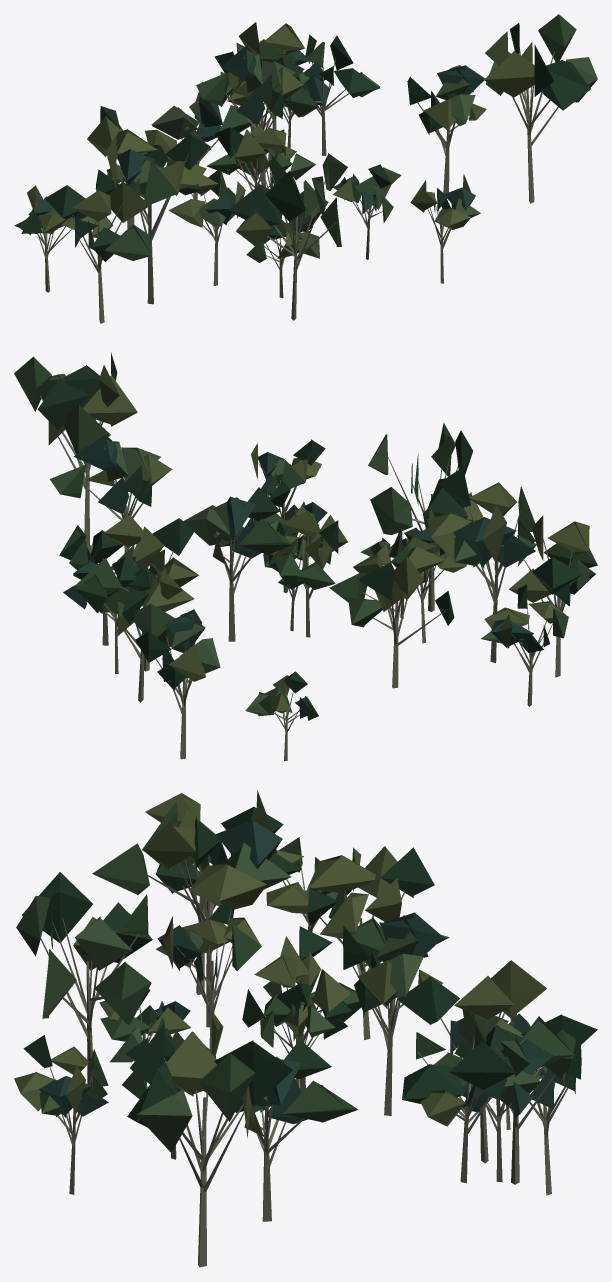
The model's file is forest_24_20.dae.
The picture shows the model from 3 angles, top to bottom: view 1: azimuth 30°, elevation 25°; view 2: azimuth 150°, elevation 25°; view 3: azimuth 270°, elevation 25°; orthographic projection. The views are drawn at different scales.
Parts seen in each view (by area): view 1: Node; view 2: Node; view 3: Node.
Part boxes in pixels (bbox=[...]): Node: bbox=[14, 14, 597, 323]; Node: bbox=[14, 352, 597, 760]; Node: bbox=[14, 790, 597, 1267].
Bounding box in the file's own units: 11.74 × 8.04 × 4.78.
